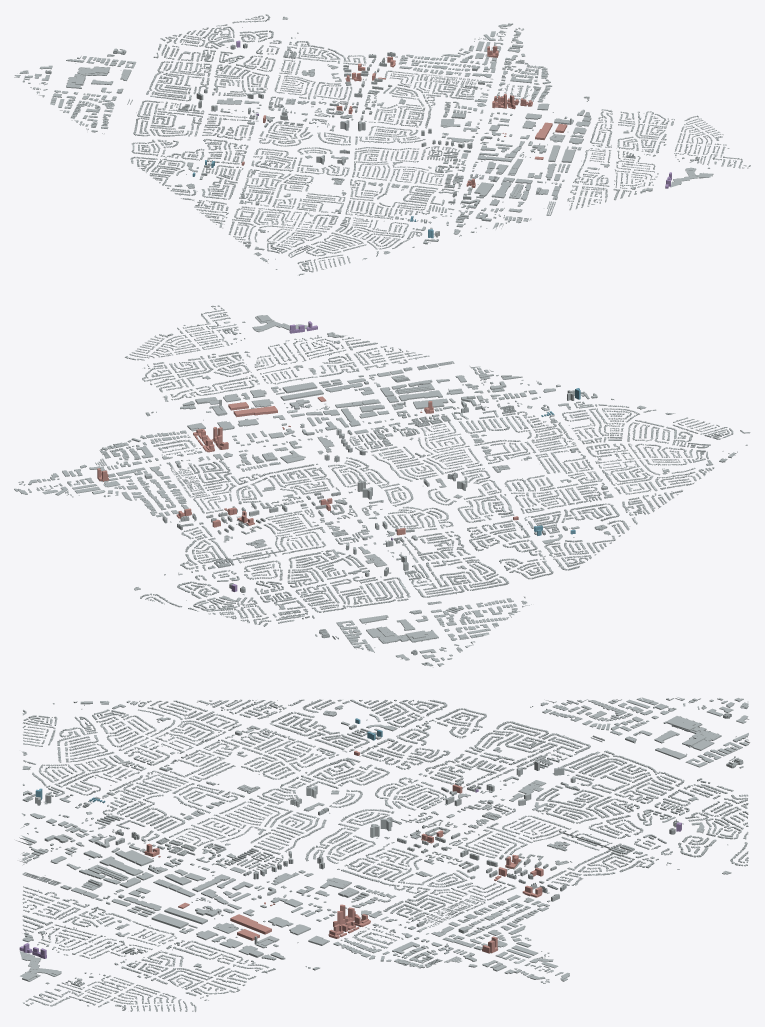
Rendered from dixie-applewood.glb.
The picture shows the model from 3 angles, top to bottom: view 1: azimuth 30°, elevation 25°; view 2: azimuth 150°, elevation 25°; view 3: azimuth 270°, elevation 25°; orthographic projection. The views are drawn at different scales.
Visible parts, largest first — view 1: existing-71, existing-73, existing-101, existing-72, existing-102; view 2: existing-71, existing-73, existing-101, existing-72, existing-102; view 3: existing-71, existing-73, existing-101, existing-72, existing-102.
Boxes of the visible parts, x1,y1,x2,y2 form: existing-71: (50, 90, 474, 225); existing-73: (66, 14, 512, 133); existing-101: (453, 27, 674, 236); existing-72: (181, 198, 439, 275); existing-102: (670, 115, 750, 187); existing-71: (307, 396, 630, 640); existing-73: (14, 439, 438, 652); existing-101: (18, 332, 560, 485); existing-72: (558, 390, 750, 524); existing-102: (125, 305, 308, 360); existing-71: (58, 697, 676, 888); existing-73: (289, 716, 749, 981); existing-101: (16, 813, 549, 1000); existing-72: (21, 699, 304, 805); existing-102: (19, 951, 196, 1011).
Size of the model in its own units: 5245 by 159 by 5284.
